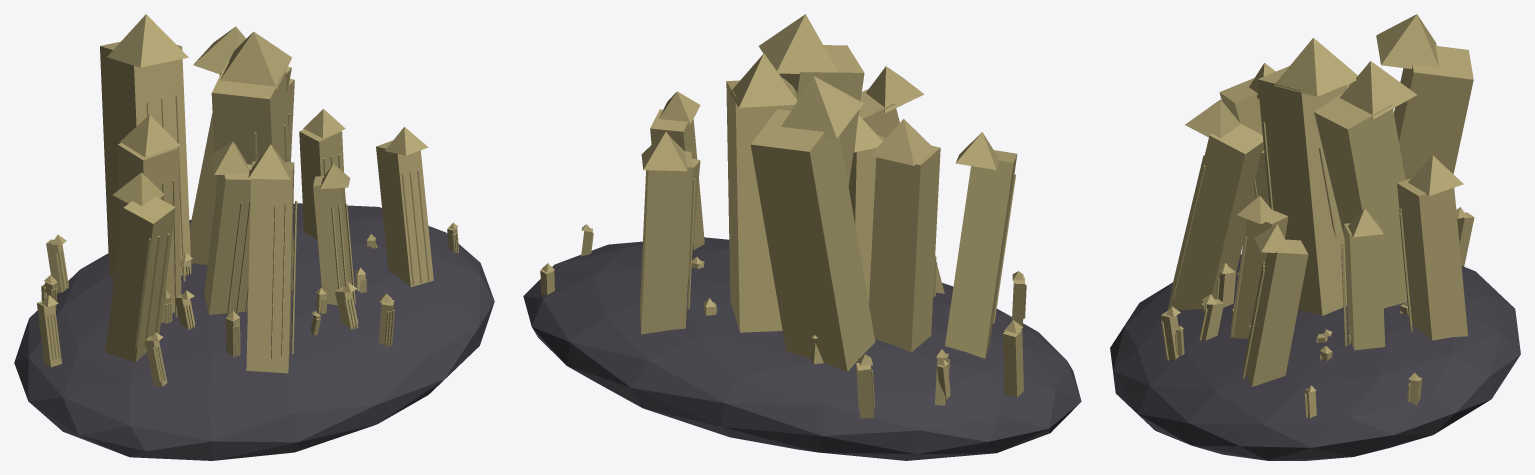
The model's file is calaverite.glb.
The picture shows the model from 3 angles, left to right: view 1: azimuth 30°, elevation 25°; view 2: azimuth 150°, elevation 25°; view 3: azimuth 270°, elevation 25°; orthographic projection. The views are drawn at different scales.
Visible parts, largest first — view 1: Calaverite; view 2: Calaverite; view 3: Calaverite.
Part boxes in pixels (<box>): Calaverite: <box>14,14,494,460</box>; Calaverite: <box>523,14,1081,460</box>; Calaverite: <box>1110,14,1520,460</box>.
Bounding box in the file's own units: 3.96 × 3.04 × 3.03.
